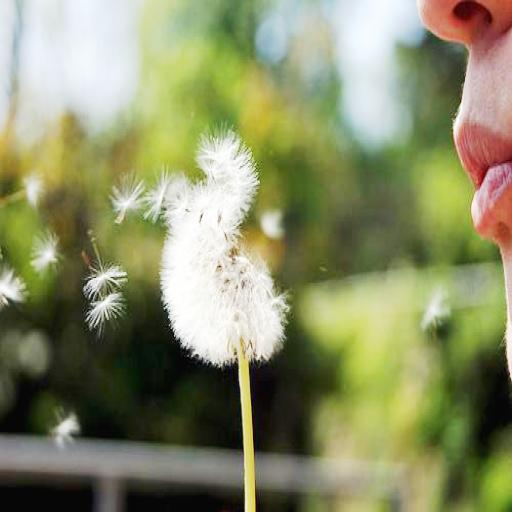dandelion: (164, 140, 276, 361)
